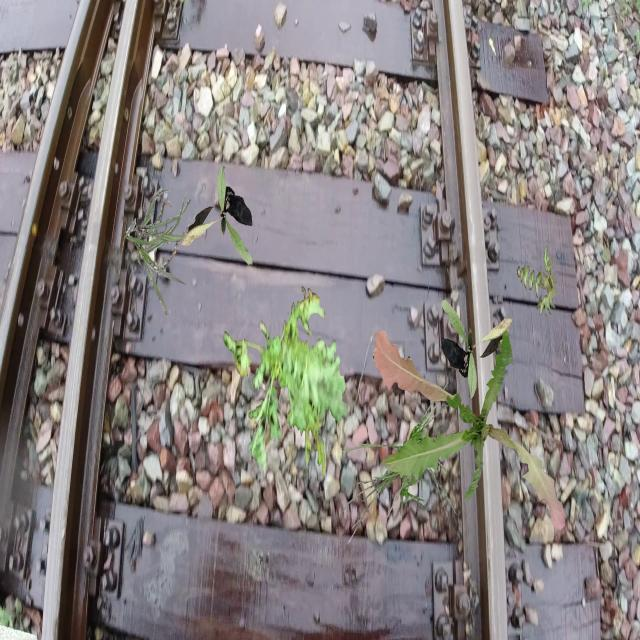Plant: (373, 328, 566, 530), (224, 286, 349, 482), (340, 382, 458, 546), (125, 190, 198, 314), (441, 299, 512, 398), (181, 165, 252, 264), (517, 245, 558, 316)
